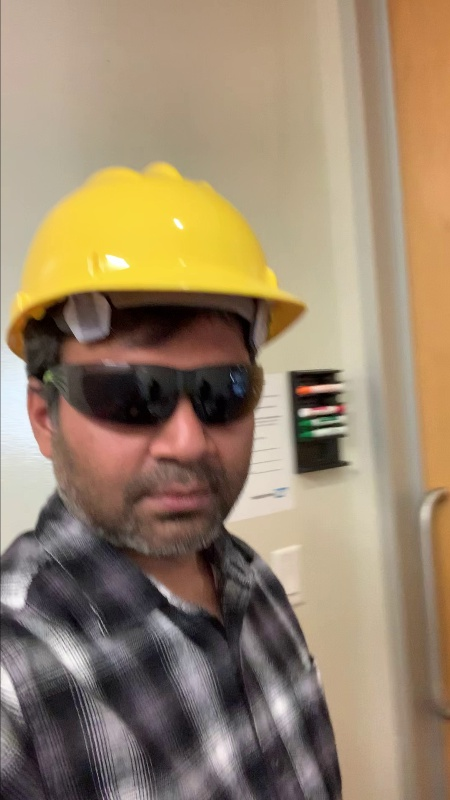glasses: (56, 361, 269, 419)
helmet: (26, 160, 272, 284)
